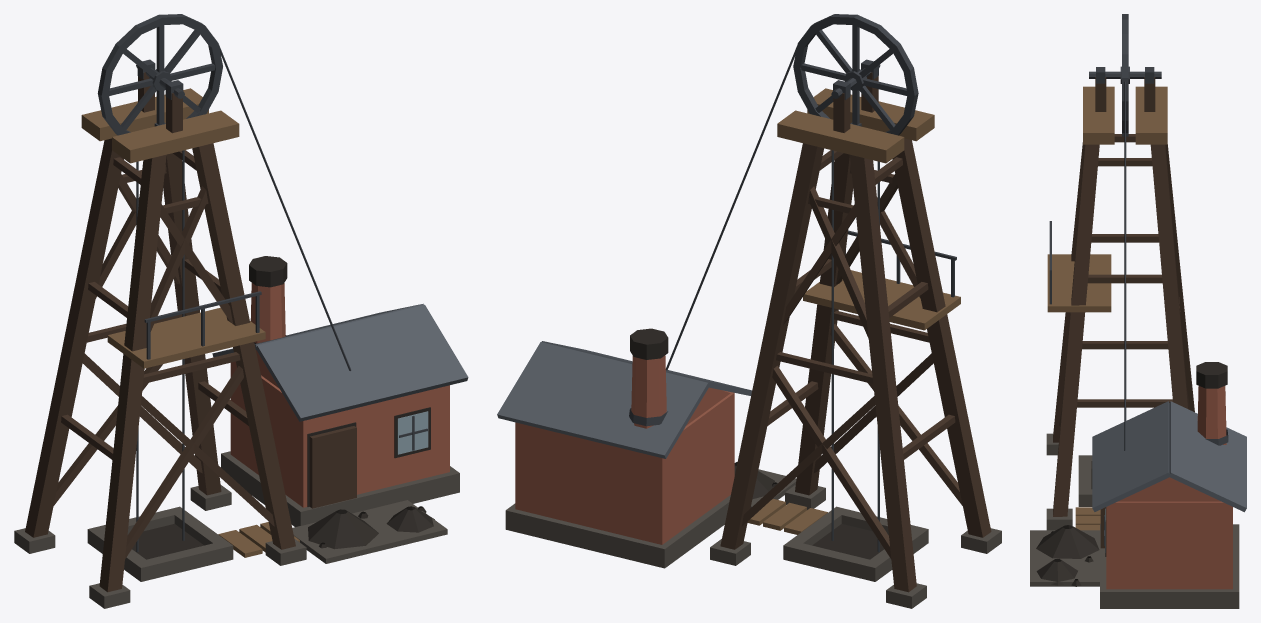
File: era2-colliery-CJJMMITb.glb
3 views of the same model, side by side, from view 1: azimuth 30°, elevation 25°; view 2: azimuth 150°, elevation 25°; view 3: azimuth 270°, elevation 25° (orthographic). The views are drawn at different scales.
Parts seen in each view (by area): view 1: CollieryHeadframe_Frame, CollieryHeadframe_ShedRoof, CollieryHeadframe_Foundation, CollieryHeadframe_Shed, CollieryHeadframe_Platform, CollieryHeadframe_Wheel, CollieryHeadframe_Ironwork, CollieryHeadframe_Coal, CollieryHeadframe_Openings, CollieryHeadframe_Glazing, CollieryHeadframe_ChimneyCap; view 2: CollieryHeadframe_Frame, CollieryHeadframe_Shed, CollieryHeadframe_ShedRoof, CollieryHeadframe_Foundation, CollieryHeadframe_Platform, CollieryHeadframe_Wheel, CollieryHeadframe_Ironwork, CollieryHeadframe_Openings, CollieryHeadframe_ChimneyCap; view 3: CollieryHeadframe_Frame, CollieryHeadframe_Shed, CollieryHeadframe_ShedRoof, CollieryHeadframe_Foundation, CollieryHeadframe_Platform, CollieryHeadframe_Coal, CollieryHeadframe_Ironwork, CollieryHeadframe_Wheel, CollieryHeadframe_ChimneyCap.
Boxes of the visible parts, x1,y1,x2,y2 form: CollieryHeadframe_Frame: [25, 72, 356, 592]; CollieryHeadframe_ShedRoof: [212, 303, 468, 421]; CollieryHeadframe_Foundation: [14, 451, 459, 608]; CollieryHeadframe_Shed: [230, 283, 449, 507]; CollieryHeadframe_Platform: [81, 88, 299, 557]; CollieryHeadframe_Wheel: [97, 14, 222, 135]; CollieryHeadframe_Ironwork: [136, 45, 427, 552]; CollieryHeadframe_Coal: [308, 506, 434, 549]; CollieryHeadframe_Openings: [127, 407, 430, 559]; CollieryHeadframe_Glazing: [397, 411, 428, 454]; CollieryHeadframe_ChimneyCap: [249, 256, 287, 287]; CollieryHeadframe_Frame: [720, 72, 991, 592]; CollieryHeadframe_Shed: [515, 355, 734, 544]; CollieryHeadframe_ShedRoof: [497, 341, 752, 458]; CollieryHeadframe_Foundation: [505, 469, 1001, 608]; CollieryHeadframe_Platform: [747, 88, 960, 534]; CollieryHeadframe_Wheel: [793, 14, 918, 135]; CollieryHeadframe_Ironwork: [629, 46, 956, 552]; CollieryHeadframe_Openings: [812, 524, 884, 559]; CollieryHeadframe_ChimneyCap: [630, 328, 668, 359]; CollieryHeadframe_Frame: [1053, 77, 1194, 548]; CollieryHeadframe_Shed: [1106, 386, 1232, 589]; CollieryHeadframe_ShedRoof: [1092, 401, 1246, 512]; CollieryHeadframe_Foundation: [1030, 433, 1239, 608]; CollieryHeadframe_Platform: [1047, 86, 1167, 530]; CollieryHeadframe_Coal: [1036, 525, 1099, 586]; CollieryHeadframe_Ironwork: [1049, 67, 1228, 545]; CollieryHeadframe_Wheel: [1120, 14, 1129, 136]; CollieryHeadframe_ChimneyCap: [1196, 362, 1227, 388].
Bounding box in the file's own units: 9.31 × 12.2 × 5.13.
